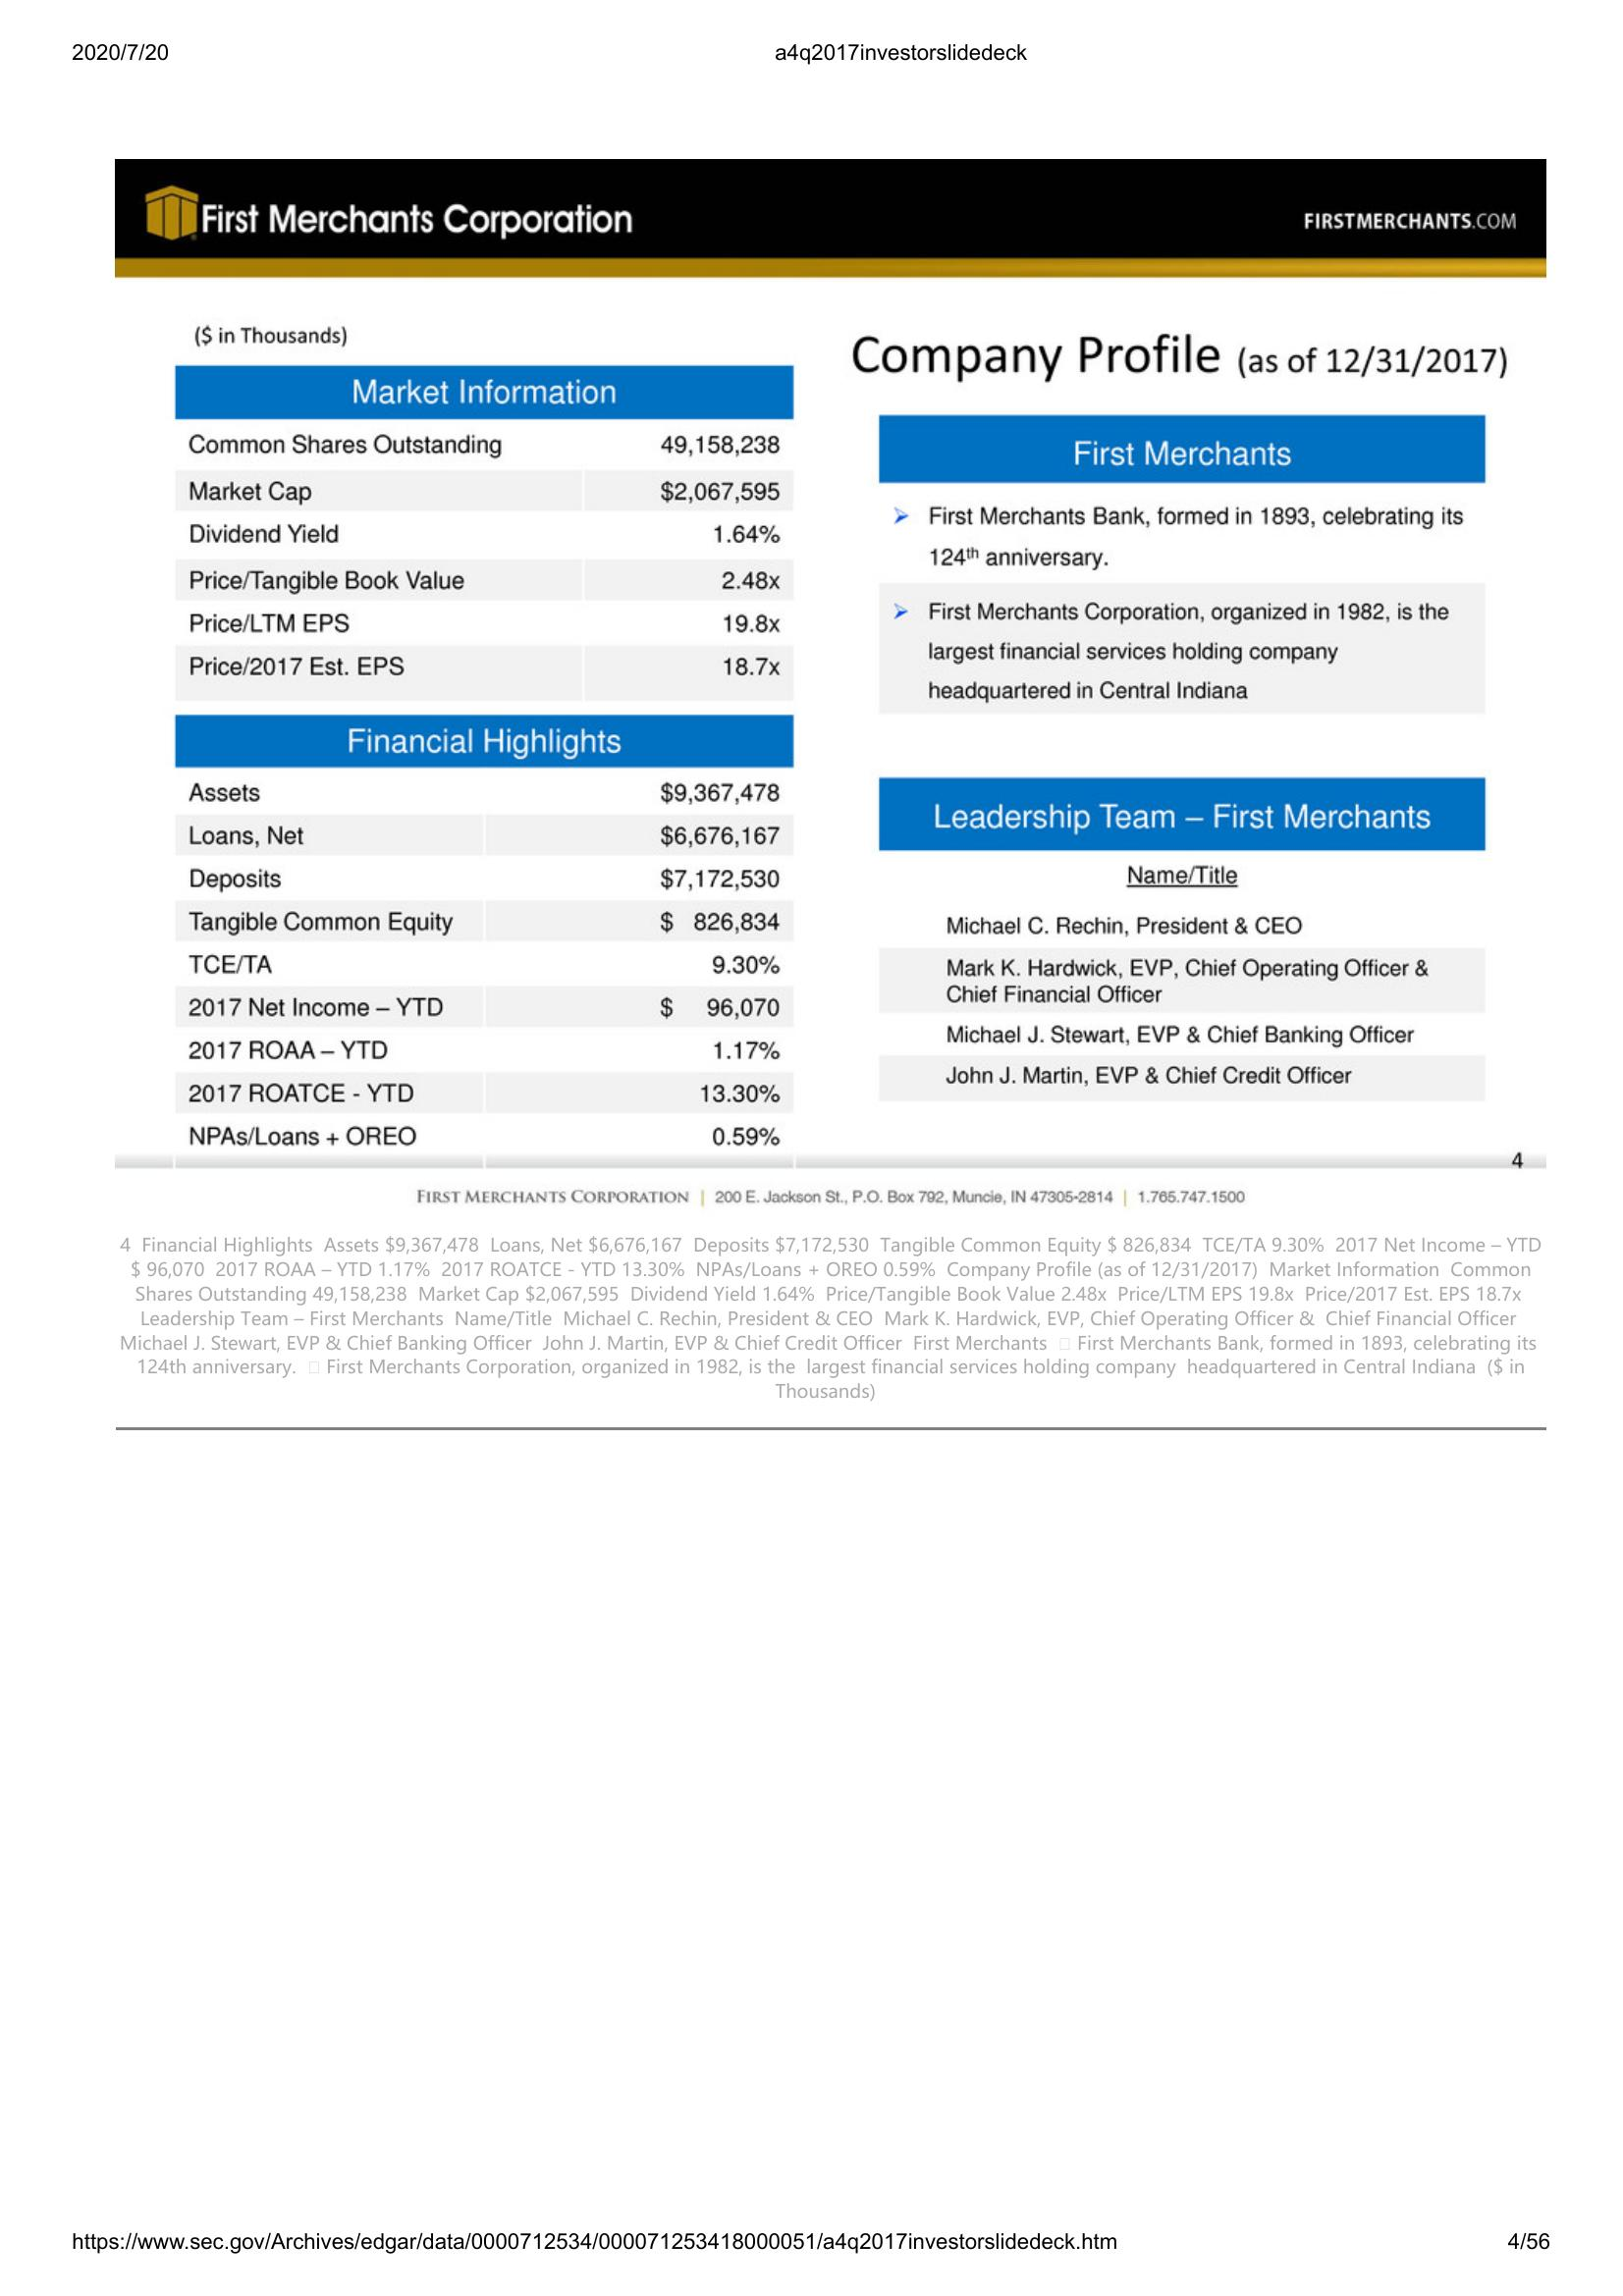table: (172, 709, 787, 1148), (174, 363, 797, 700)
